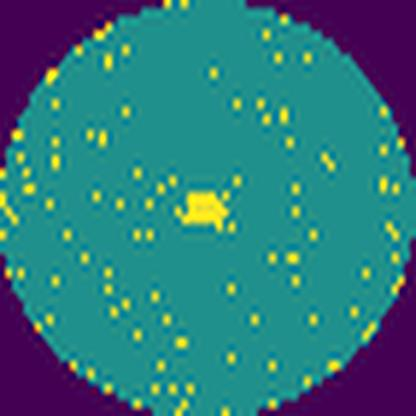Center: (179, 192, 227, 224)
